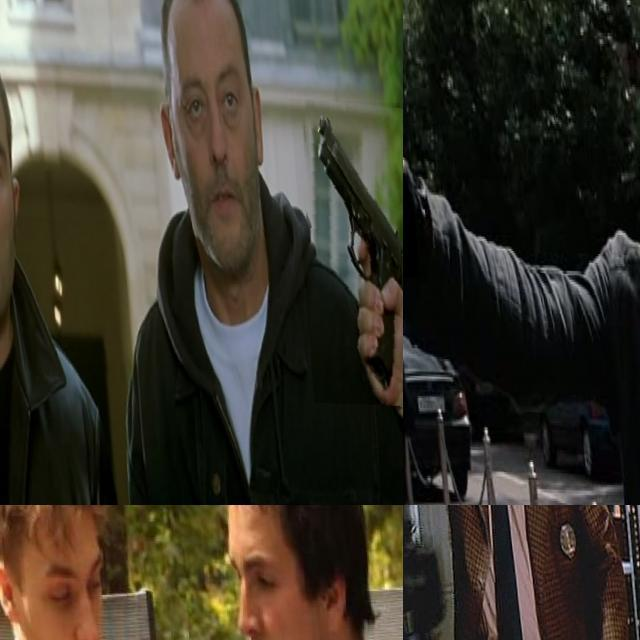gun-knife-thesis - v11 Yolov5 augmented: (285, 96, 403, 402), (403, 61, 466, 276), (403, 505, 432, 563), (403, 505, 429, 542)
